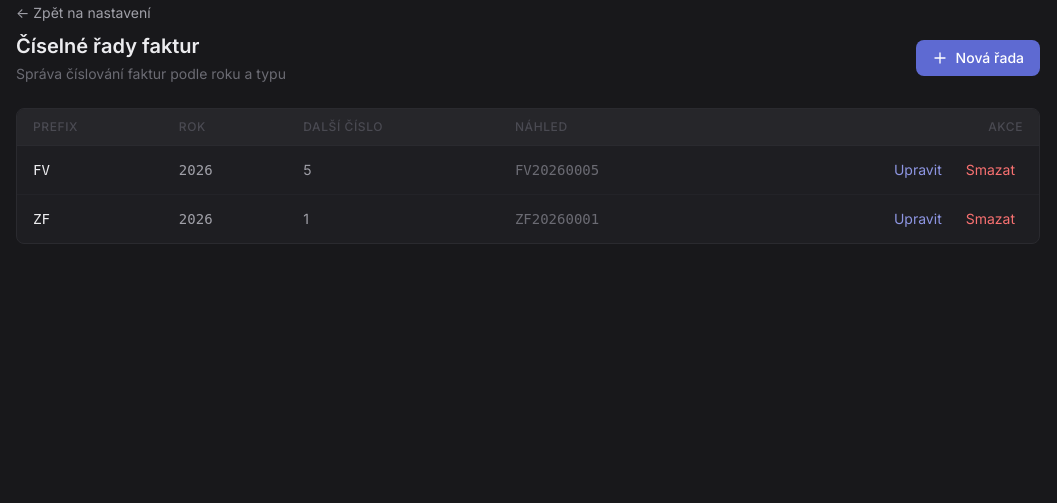
Test: Sequences Settings Page › create form shows format preview
expect the text "FV" is shown: met, box [17, 146, 163, 194]
Click the button "Nová řada".
click(978, 58)  # box [916, 40, 1040, 76]
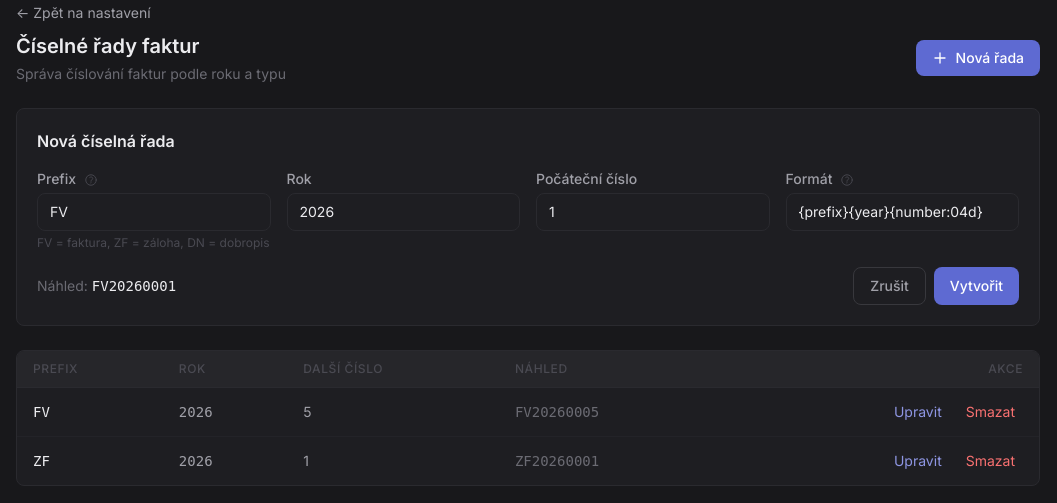
expect the text "Náhled: FV20260001" is shown: met, box [37, 276, 176, 296]
expect the text "FV20260001" is shown: met, box [92, 278, 176, 294]
